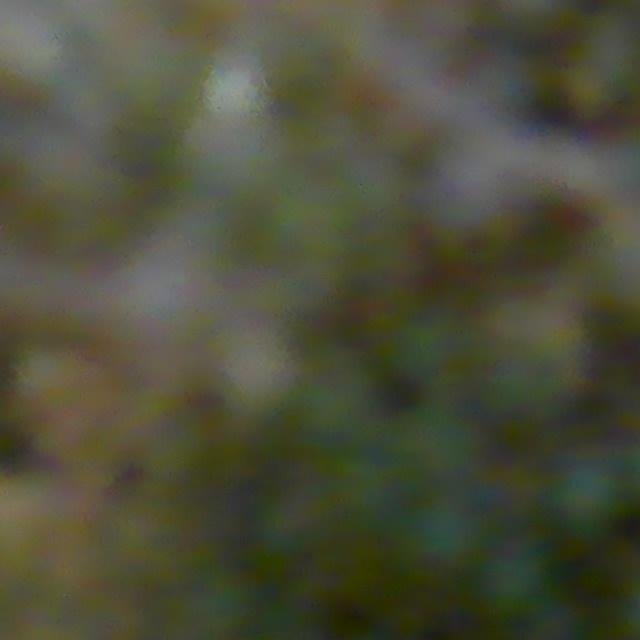SeaGrape: (548, 452, 623, 531), (477, 543, 550, 617)
